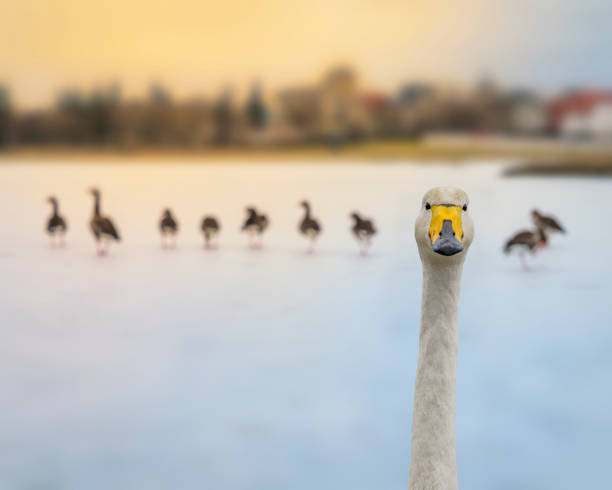goose: (386, 182, 475, 490), (79, 184, 119, 267), (35, 182, 71, 259), (501, 222, 553, 275), (291, 194, 326, 266), (341, 207, 379, 262), (196, 206, 230, 263), (151, 208, 184, 257)
